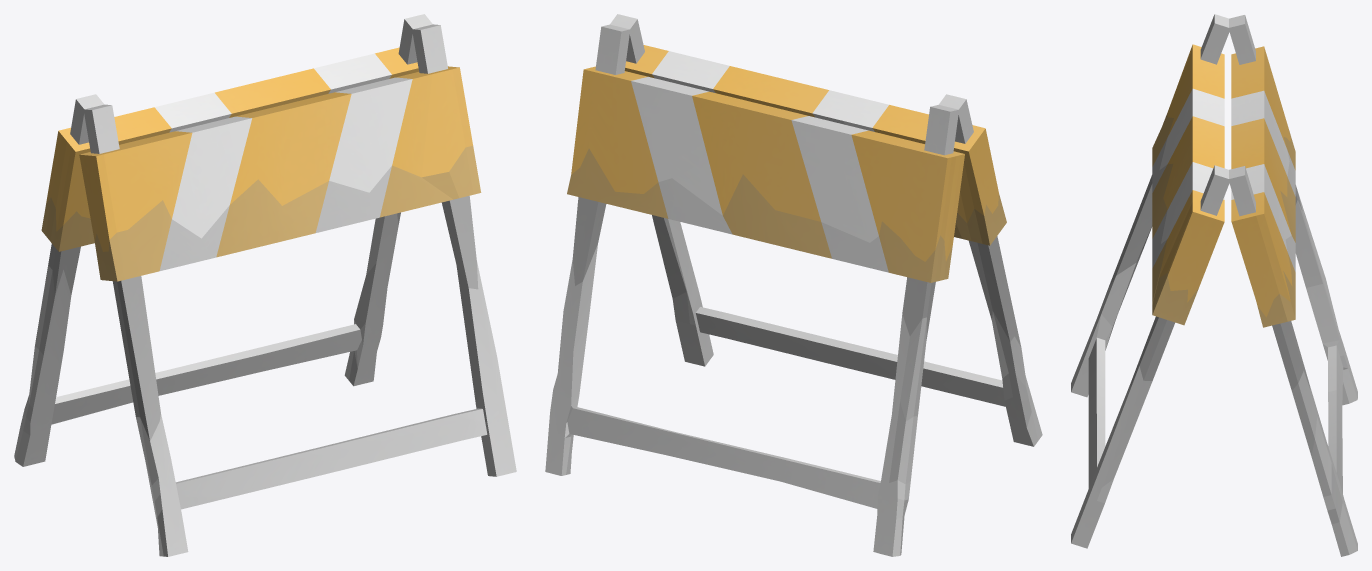
File: road_barrier.glb
3 renders of one model, left to right at view 1: azimuth 30°, elevation 25°; view 2: azimuth 150°, elevation 25°; view 3: azimuth 270°, elevation 25°, orthographic. The views are drawn at different scales.
Visible parts, largest first — view 1: road_barrier; view 2: road_barrier; view 3: road_barrier.
Part boxes in pixels (<box>): road_barrier: <box>14,14,516,556</box>; road_barrier: <box>545,14,1042,556</box>; road_barrier: <box>1071,14,1357,556</box>.
Size of the model in its own units: 0.9973 by 1.06 by 0.722.
Materials: 1 (1 with a texture image).
